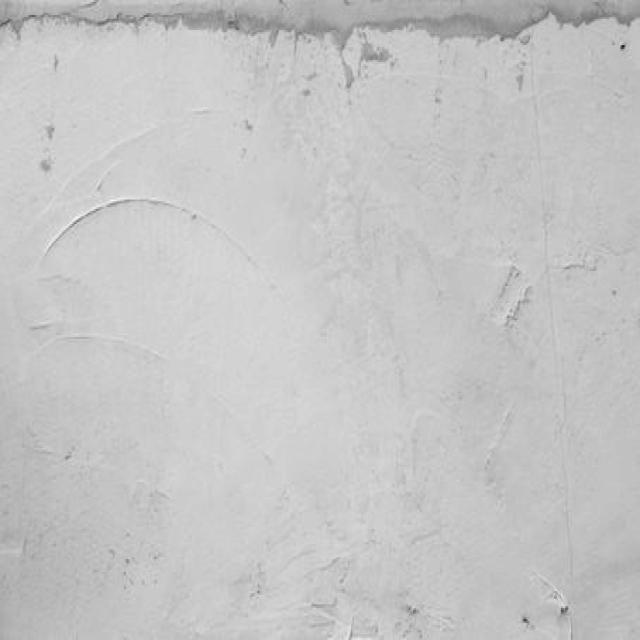trowels marks: (1, 102, 281, 288), (15, 311, 280, 490), (486, 237, 610, 339), (508, 551, 626, 640), (300, 544, 392, 640), (466, 387, 528, 496)
